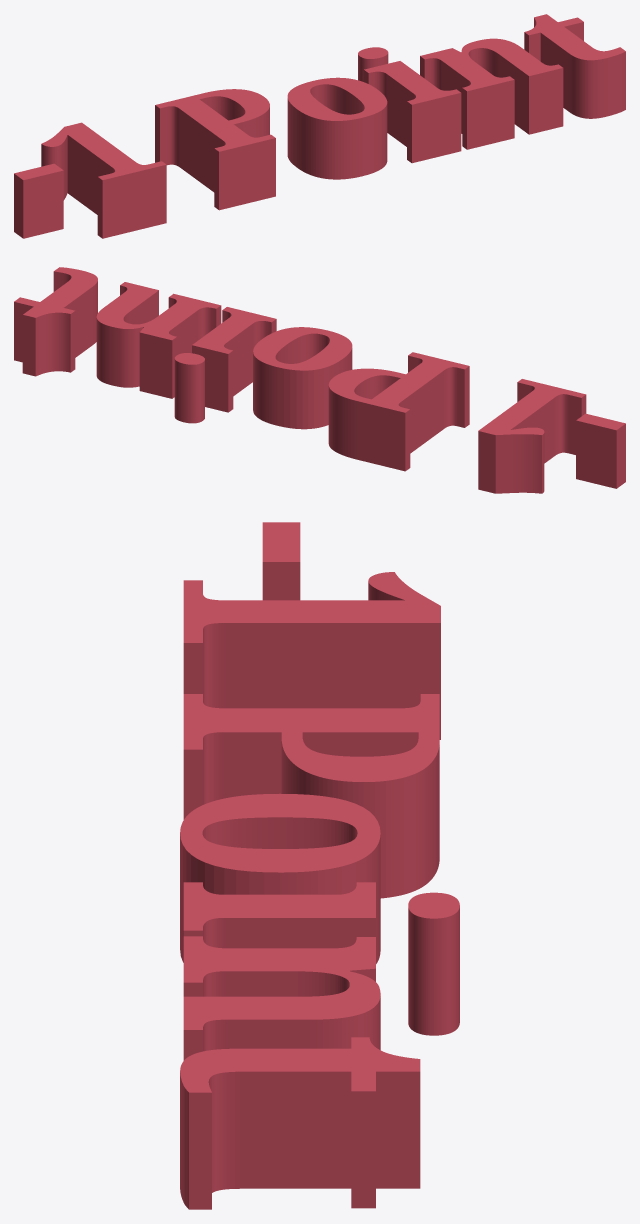
The model's file is negative.glb.
3 views of the same model, one above another, from view 1: azimuth 30°, elevation 25°; view 2: azimuth 150°, elevation 25°; view 3: azimuth 270°, elevation 25° (orthographic). The views are drawn at different scales.
Parts seen in each view (by area): view 1: Mesh_Mesh_head_geo.001_lambert2SG.001; view 2: Mesh_Mesh_head_geo.001_lambert2SG.001; view 3: Mesh_Mesh_head_geo.001_lambert2SG.001.
Boxes of the visible parts, box(x1,y1,x2,y2) form: Mesh_Mesh_head_geo.001_lambert2SG.001: box(14, 14, 625, 238); Mesh_Mesh_head_geo.001_lambert2SG.001: box(14, 267, 625, 493); Mesh_Mesh_head_geo.001_lambert2SG.001: box(180, 522, 459, 1209).
Size of the model in its own units: 104 by 10 by 21.66.
